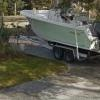Boat: (19, 2, 99, 65)
